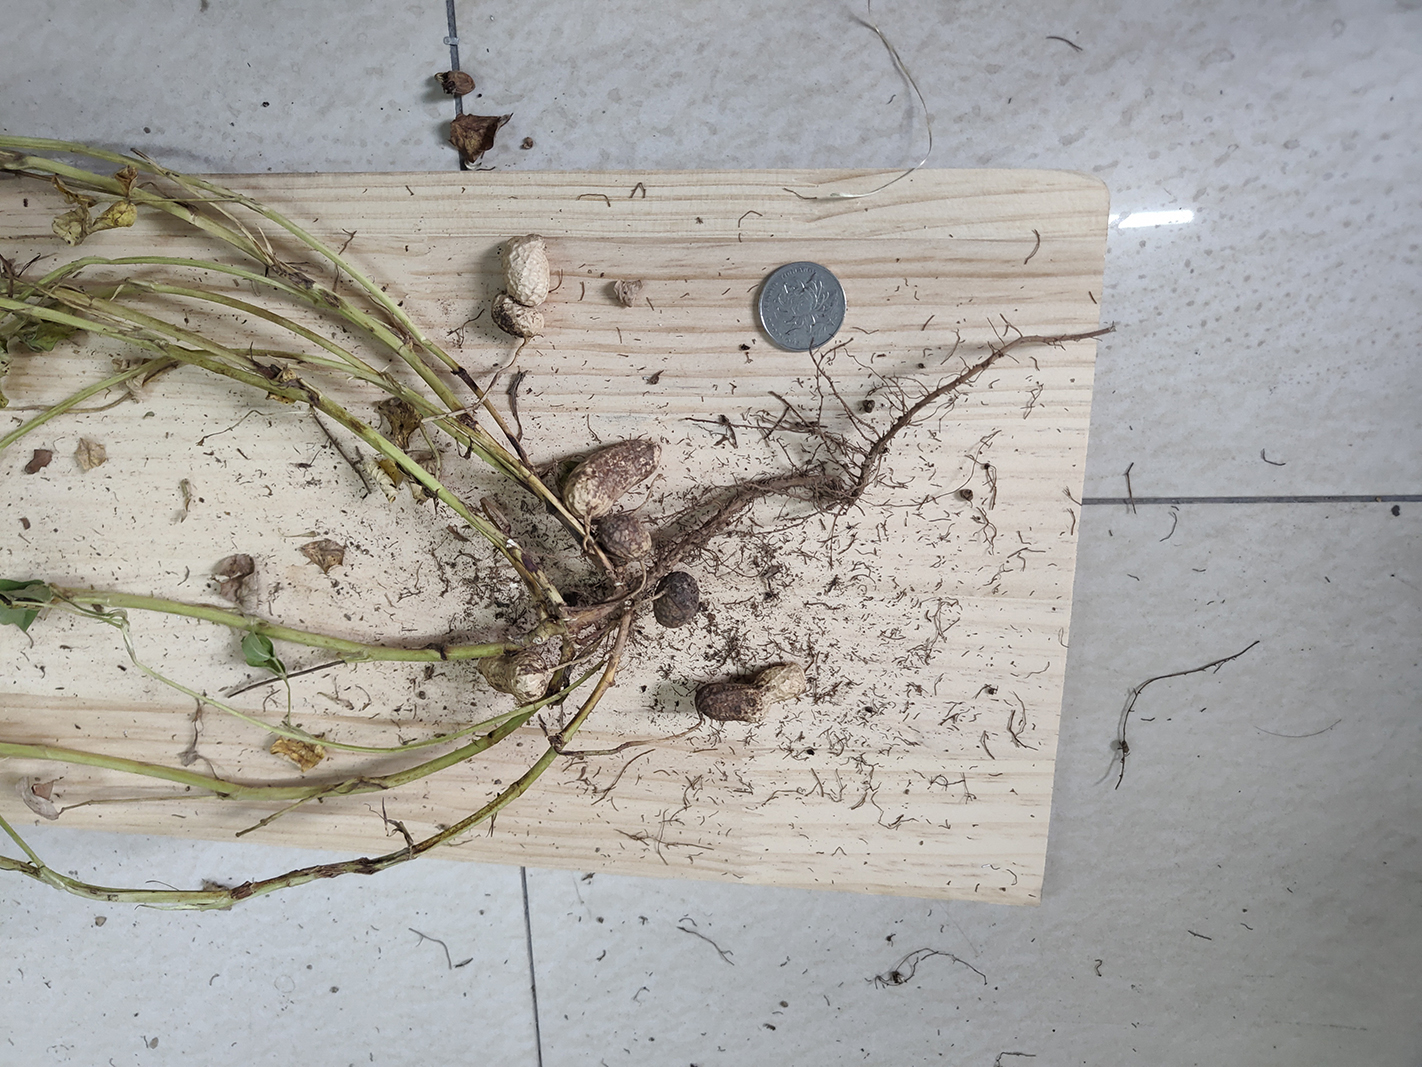h: (492, 233, 550, 337), (477, 650, 549, 702)
l: (561, 438, 660, 520), (693, 662, 806, 721), (653, 570, 699, 628), (596, 514, 650, 559)
